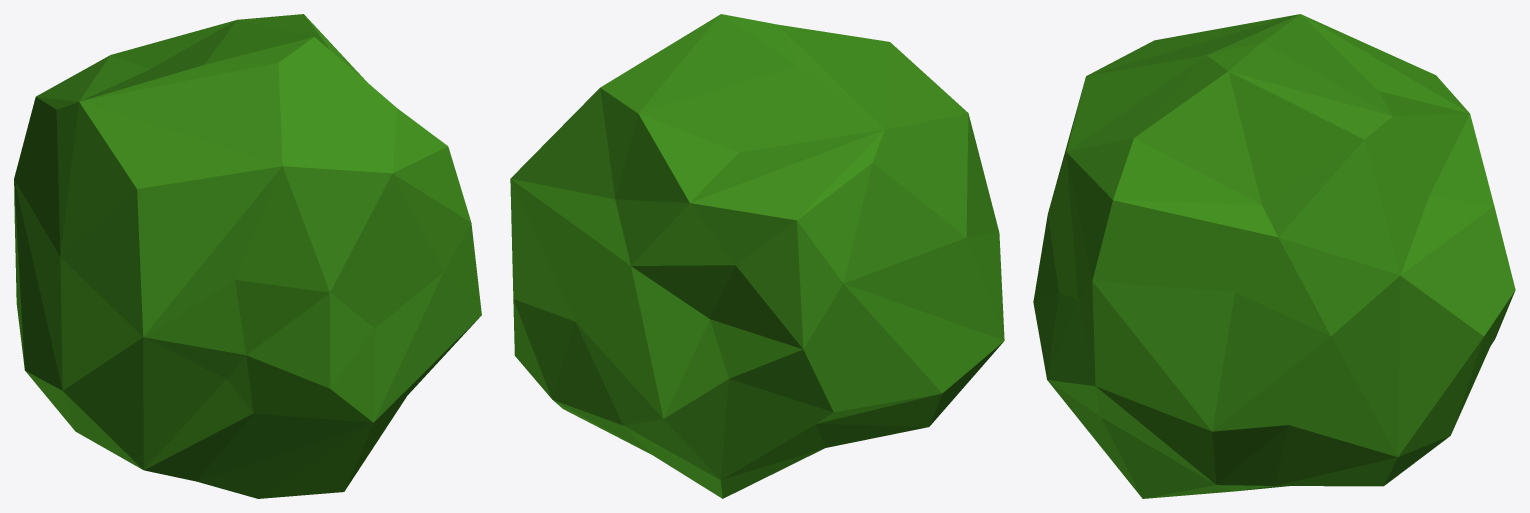
The model's file is BushD.fbx.
3 views of the same model, side by side, from view 1: azimuth 30°, elevation 25°; view 2: azimuth 150°, elevation 25°; view 3: azimuth 270°, elevation 25° (orthographic). The views are drawn at different scales.
Visible parts, largest first — view 1: bushD_geo; view 2: bushD_geo; view 3: bushD_geo.
Part boxes in pixels (x1,y1,x2,y2): bushD_geo: [14, 14, 481, 498]; bushD_geo: [510, 14, 1004, 498]; bushD_geo: [1033, 14, 1515, 498].
Bounding box in the file's own units: 128 × 125 × 125.
